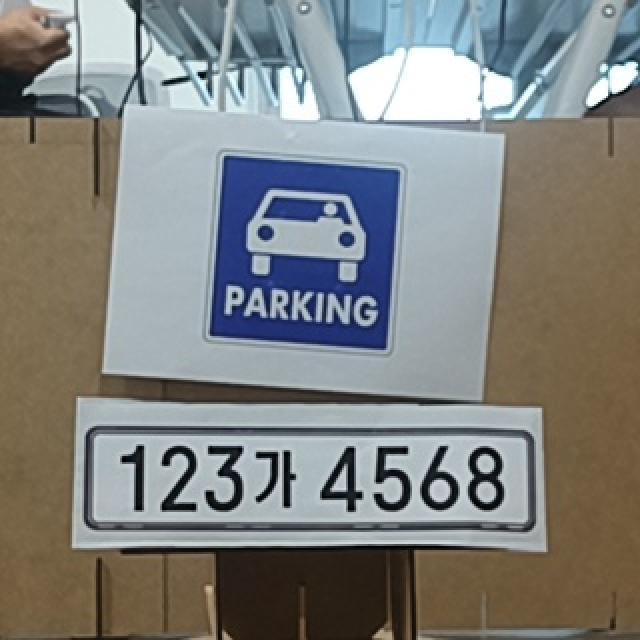normal: (86, 425, 532, 532)
